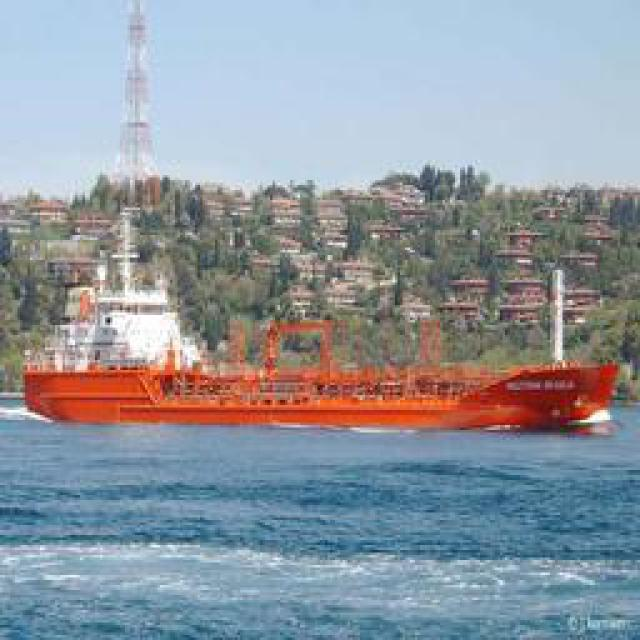Ship: (22, 350, 625, 433)
